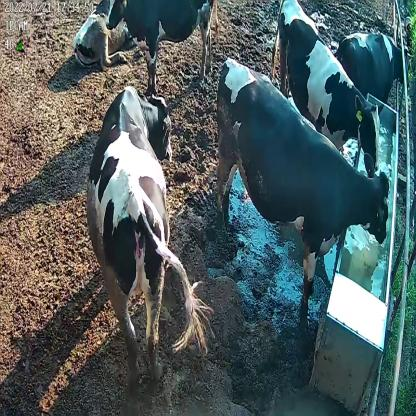cow: (214, 53, 390, 310), (84, 82, 210, 376), (271, 0, 385, 176), (105, 0, 221, 86), (336, 33, 409, 101)
